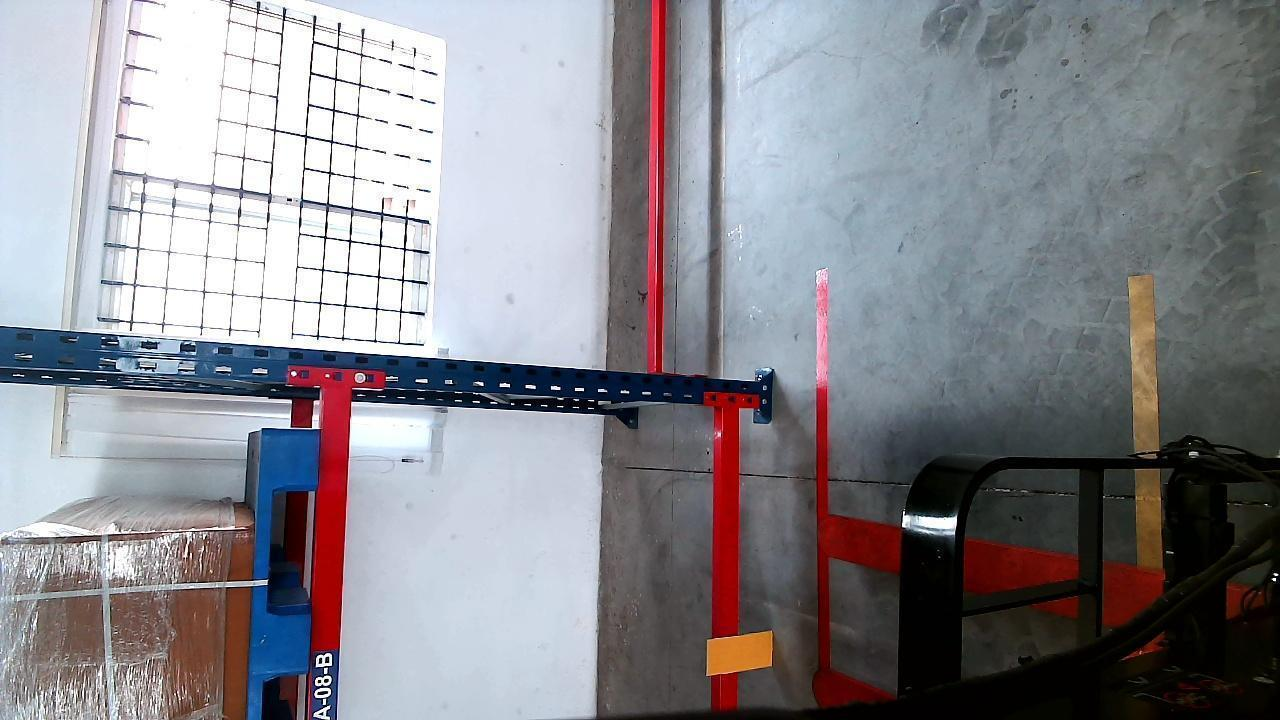red_line: (809, 270, 838, 717)
yellow_line: (1132, 254, 1161, 610)
